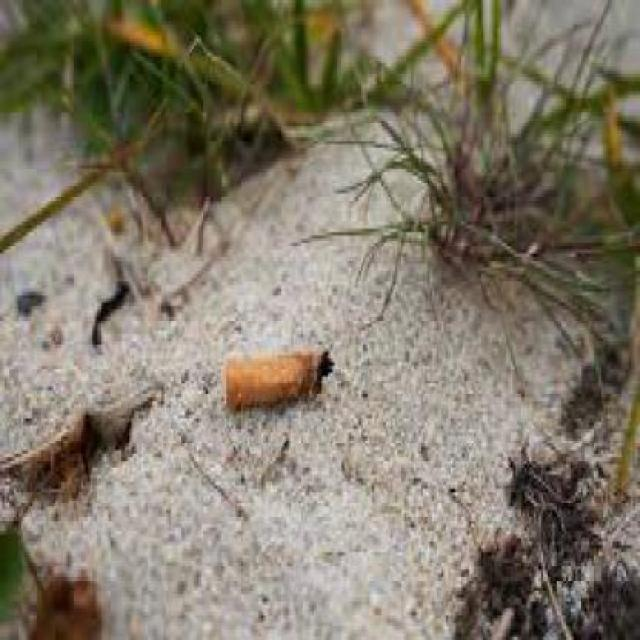cigarette: (218, 345, 334, 426)
